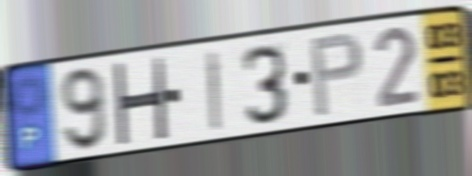2: (373, 24, 421, 111)
3: (240, 41, 292, 128)
9: (57, 64, 108, 153)
H: (110, 56, 169, 145)
I: (204, 48, 223, 134)
P: (308, 29, 366, 121)
